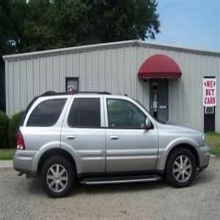no damage: (13, 91, 211, 196)
